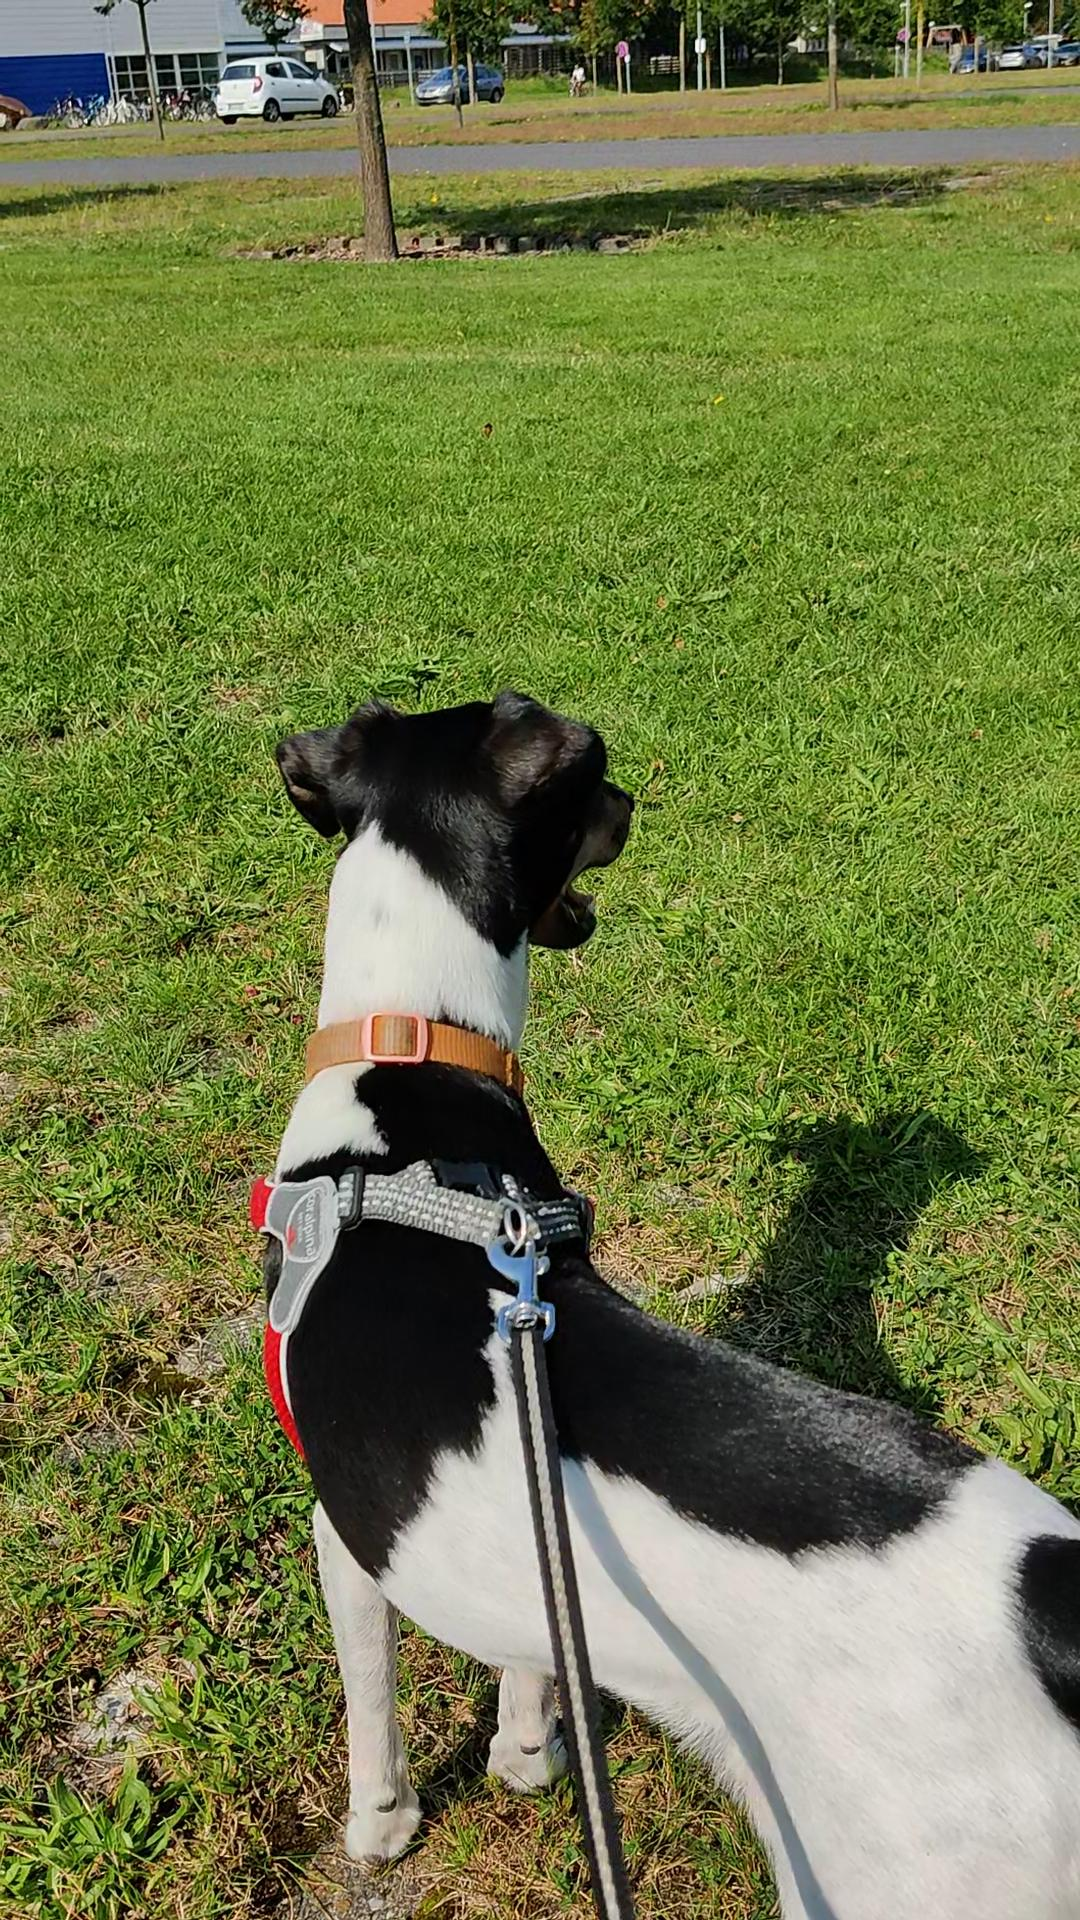Dog: (233, 674, 1079, 1919)
